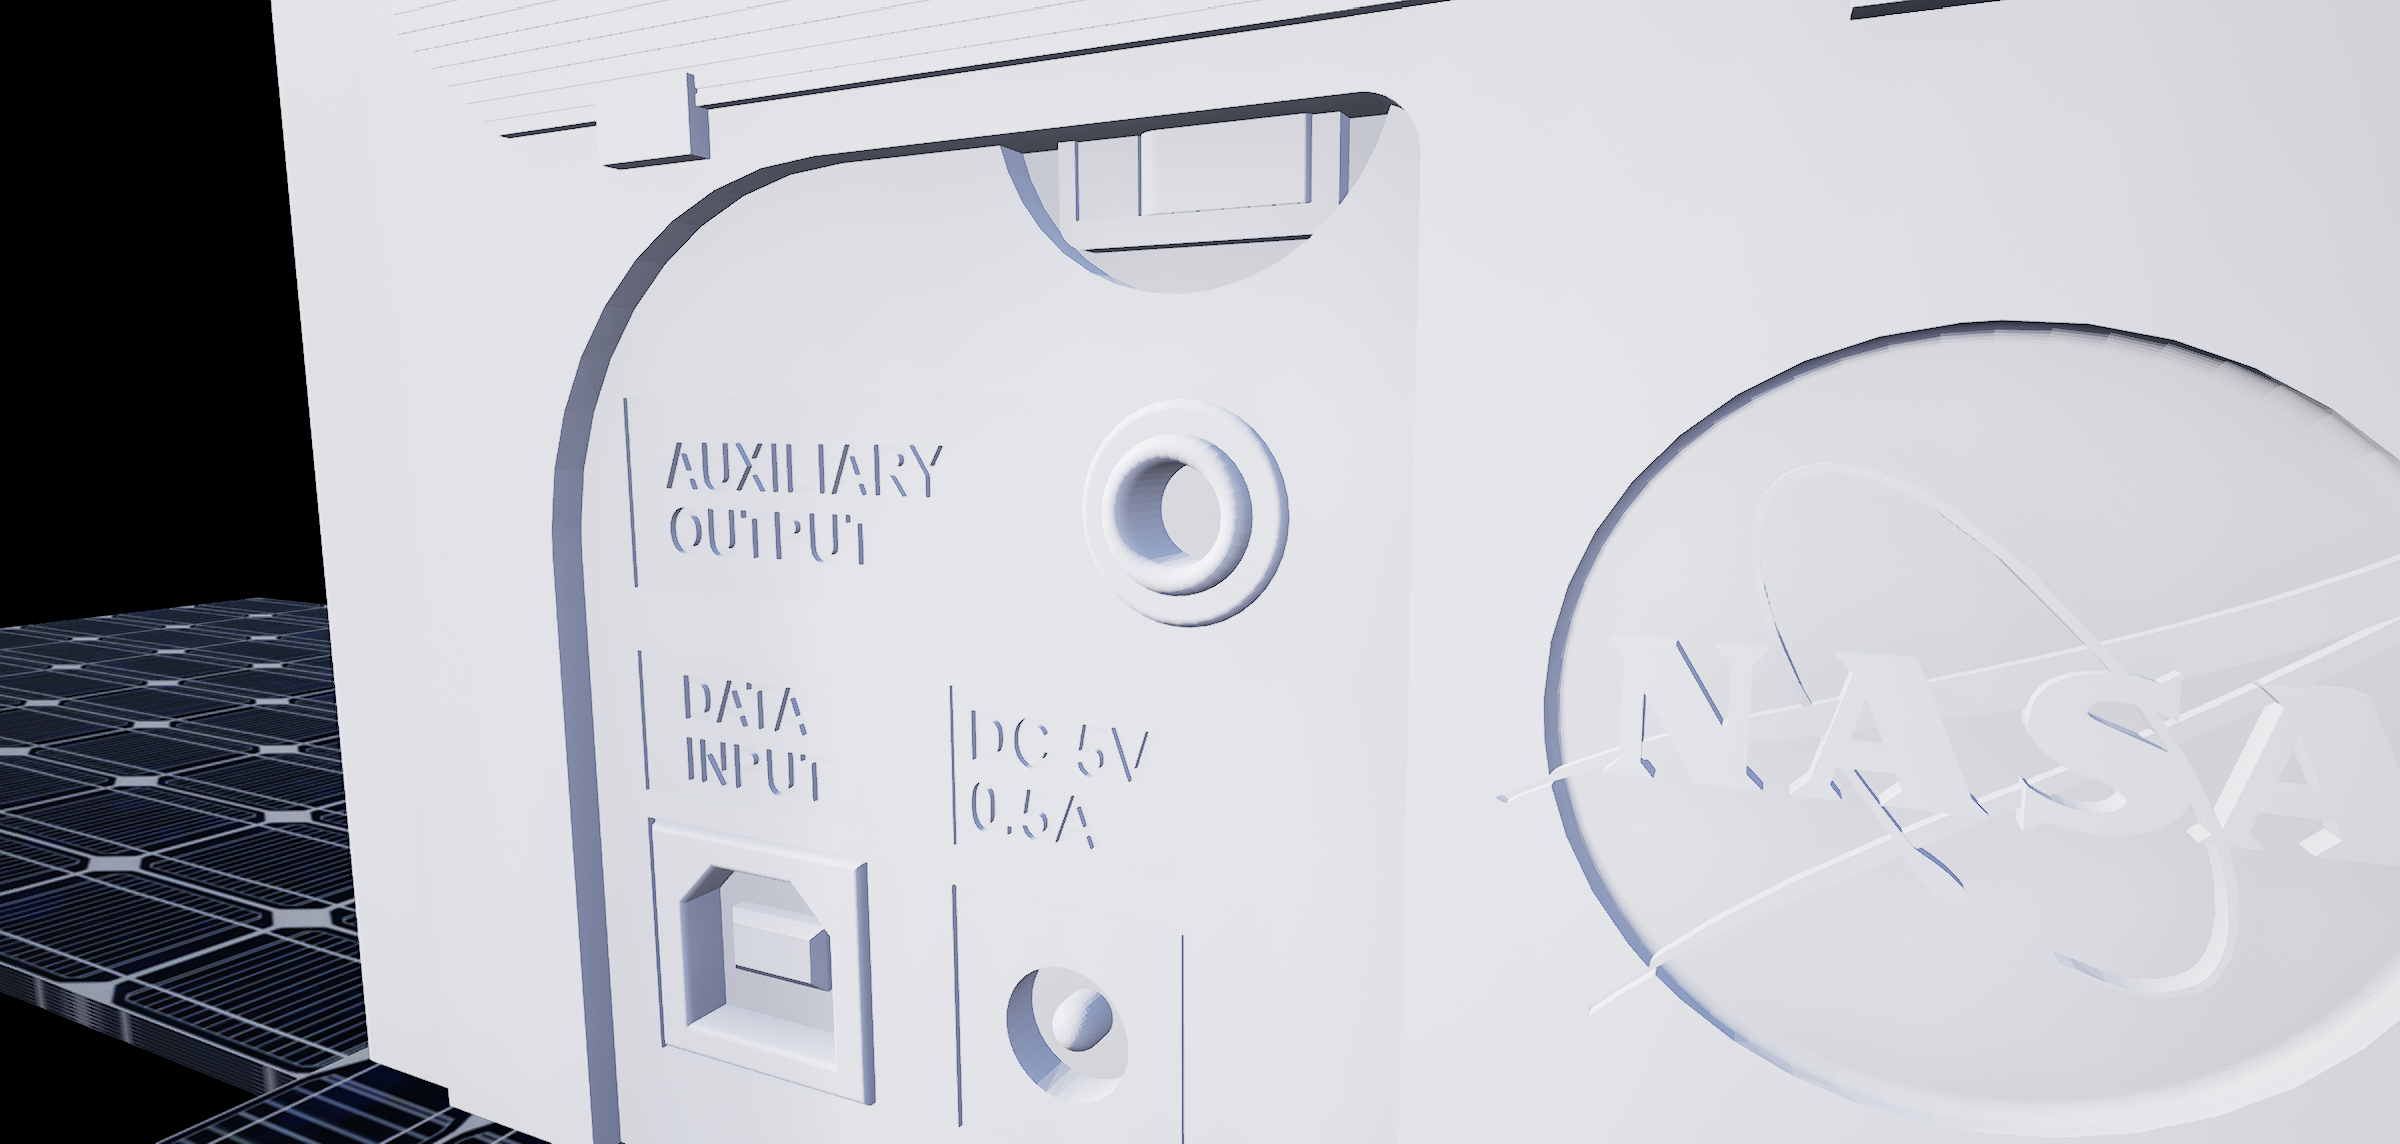aux: (1068, 384, 1313, 646)
dc: (989, 957, 1149, 1119)
usb: (677, 851, 854, 1075)
